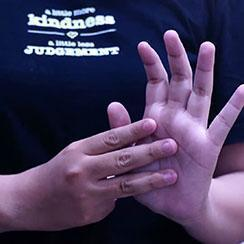M: (30, 5, 244, 244)
